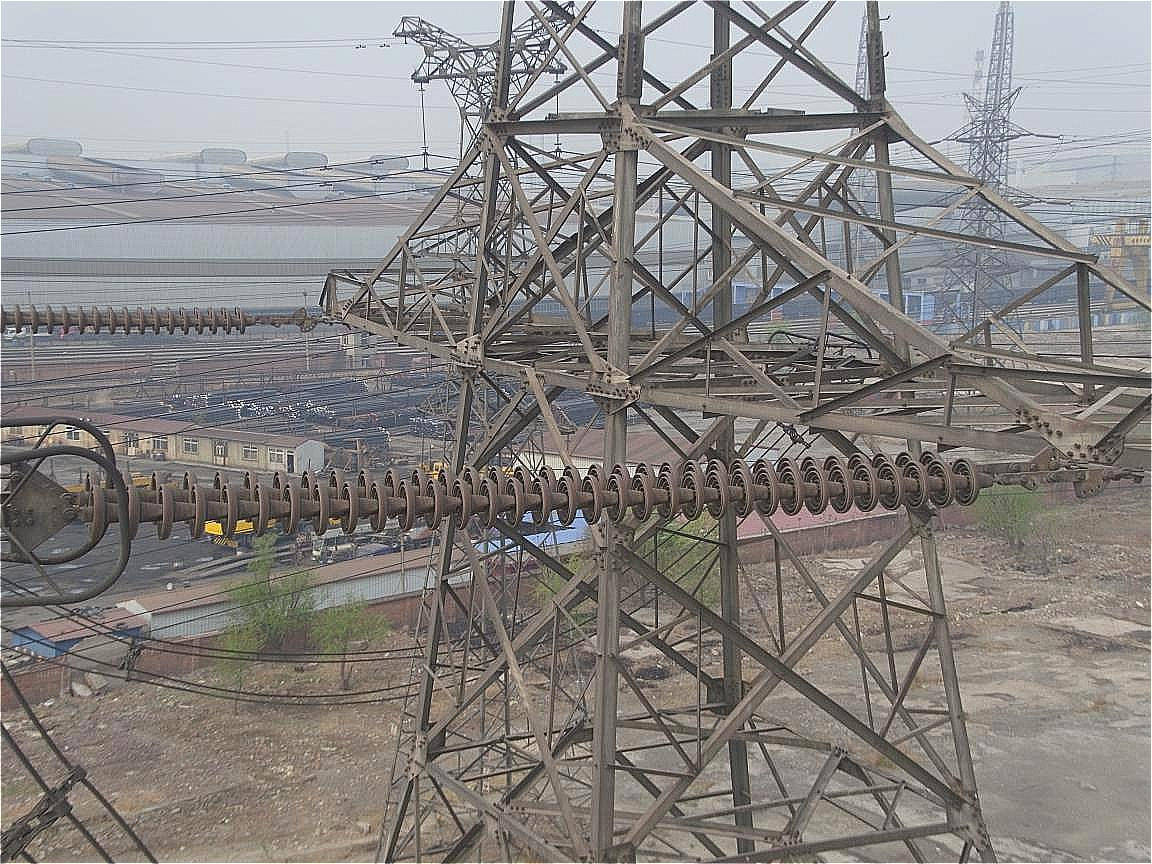insultor1: (80, 449, 982, 541), (5, 303, 251, 335)
